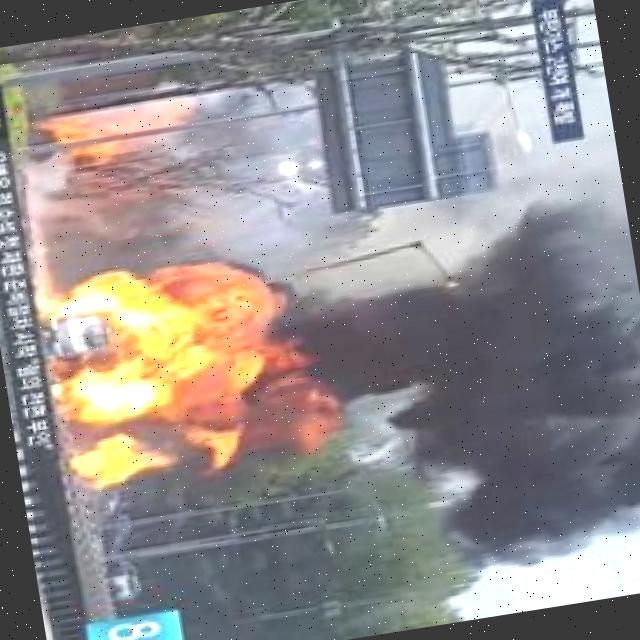fire: (32, 247, 303, 488), (37, 106, 122, 171)
